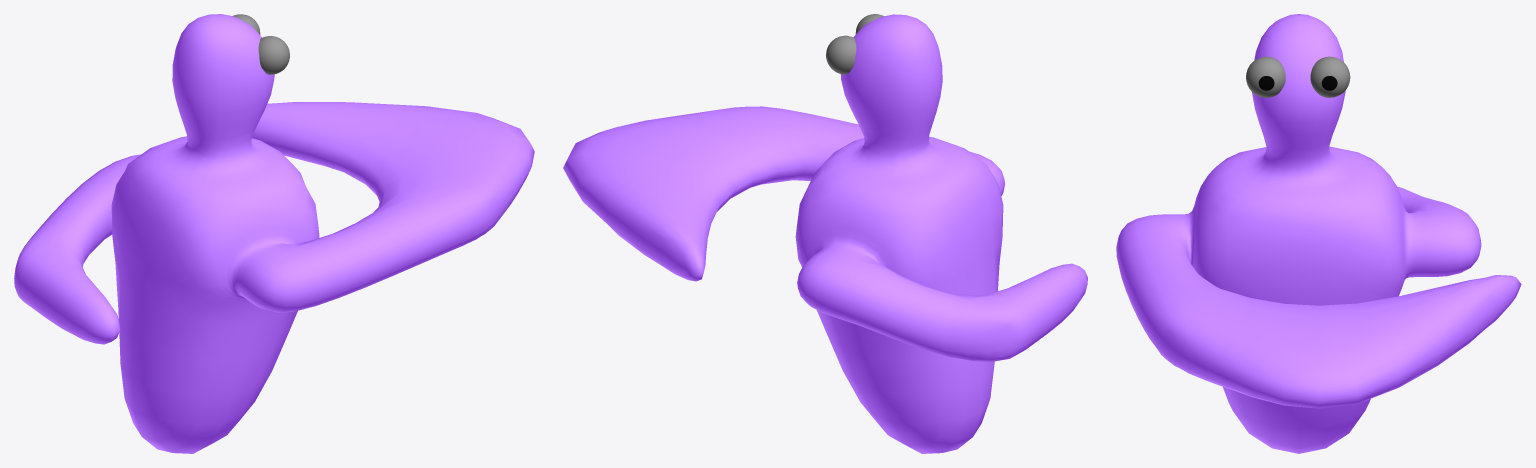
The model's file is Player.FBX.
3 views of the same model, side by side, from view 1: azimuth 30°, elevation 25°; view 2: azimuth 150°, elevation 25°; view 3: azimuth 270°, elevation 25° (orthographic). The views are drawn at different scales.
Visible parts, largest first — view 1: Box001, Sphere001; view 2: Box001, Sphere002; view 3: Box001, Sphere001, Sphere002.
Part boxes in pixels (left/top/right/bottom): Box001: left=14, top=14, right=534, bottom=453; Sphere001: left=258, top=36, right=289, bottom=74; Box001: left=563, top=14, right=1087, bottom=453; Sphere002: left=826, top=35, right=856, bottom=74; Box001: left=1116, top=14, right=1521, bottom=453; Sphere001: left=1246, top=56, right=1285, bottom=97; Sphere002: left=1310, top=56, right=1350, bottom=97.
Size of the model in its own units: 1.47 by 1.23 by 1.01.
